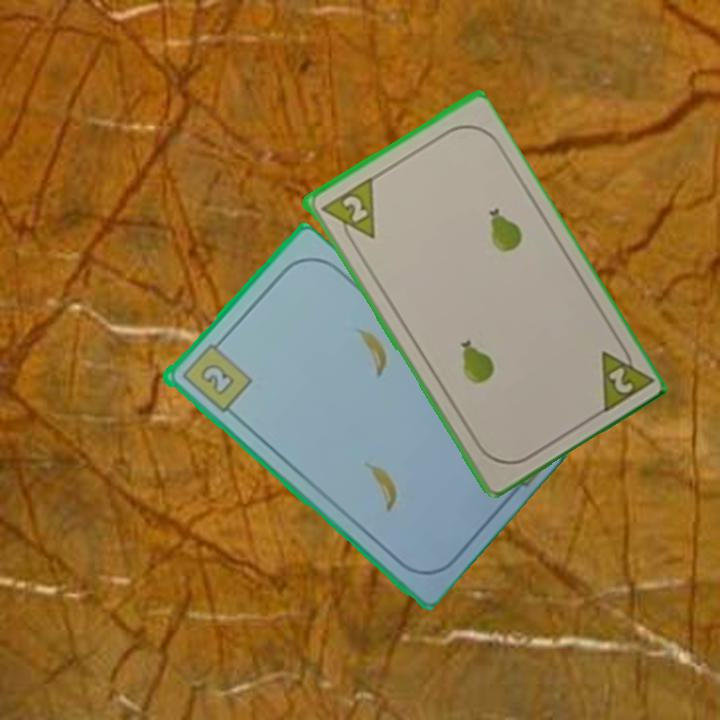2b: (178, 335, 254, 415)
2p: (595, 336, 654, 417), (338, 191, 370, 225)
